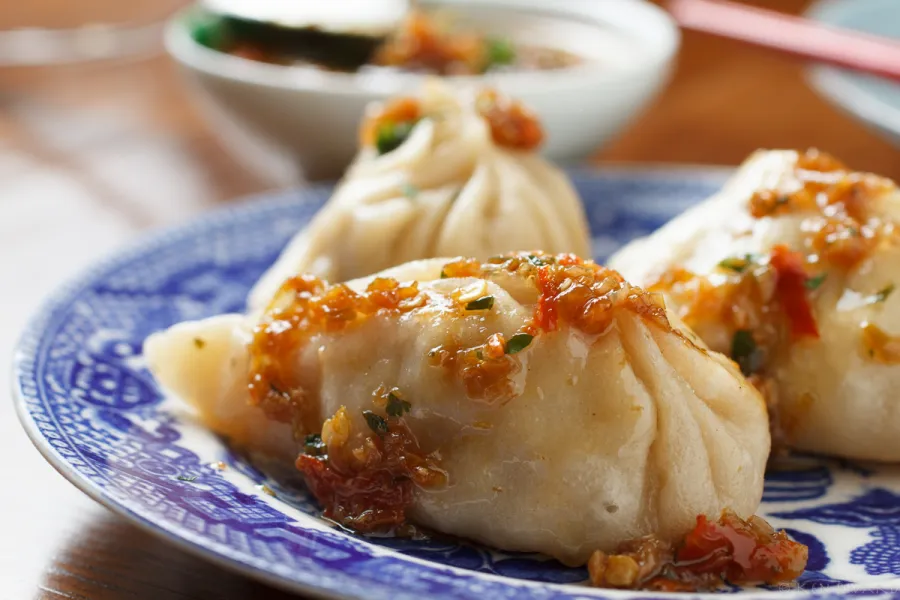momo: (144, 241, 763, 574), (613, 140, 900, 460), (254, 73, 586, 271)
